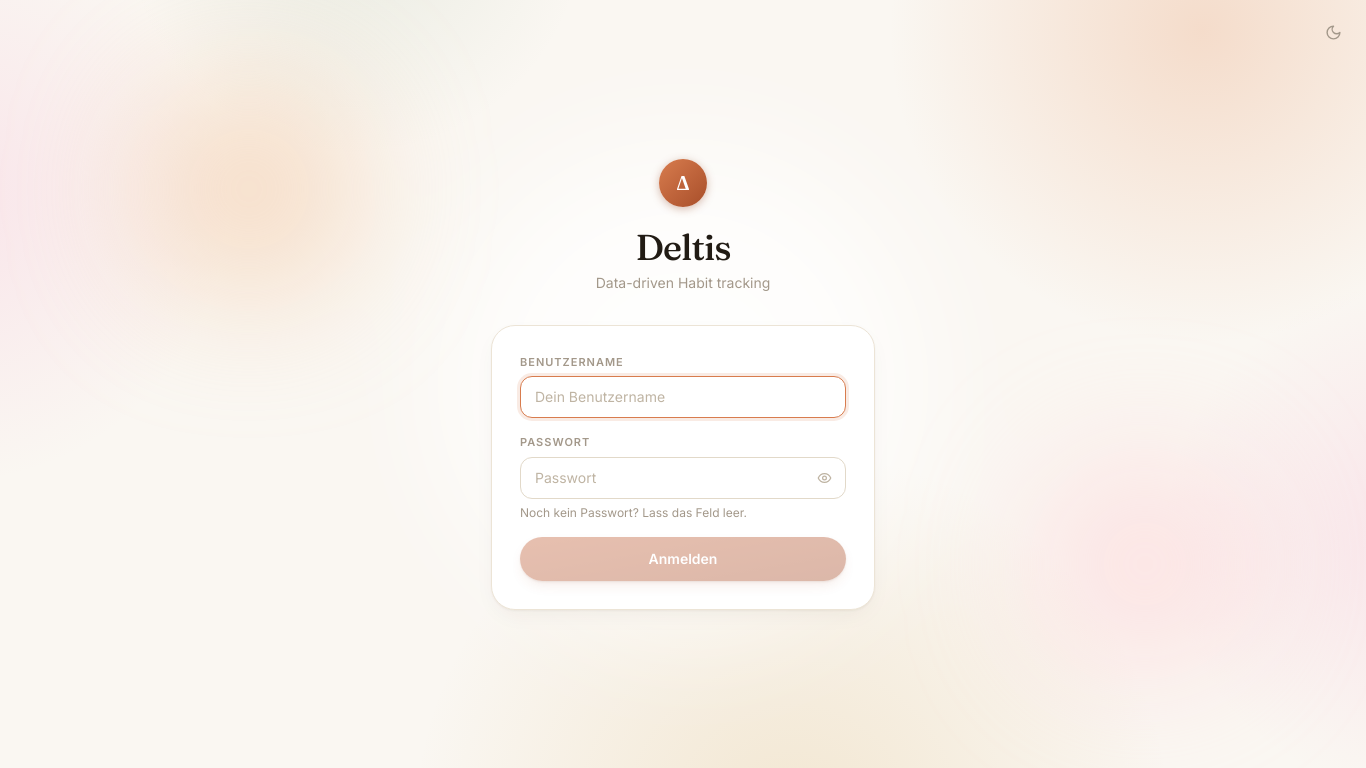
Test: Login page – error messages › shows "Falsches Passwort" error
In the field with placeholder "Dein Benutzername": [683, 397] box [520, 376, 846, 418], type "alice"
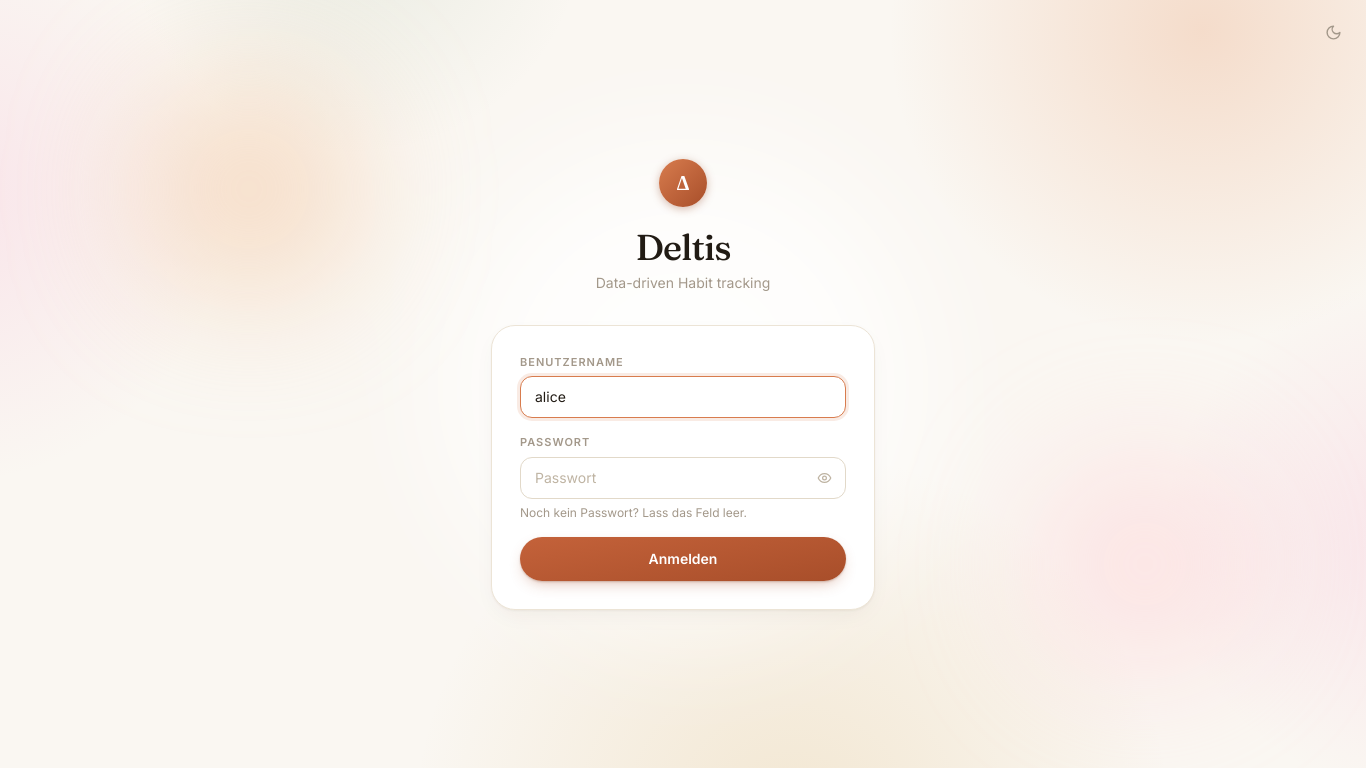
In the password field with placeholder "Passwort": [683, 478] box [520, 456, 846, 498], type "wrongpass"
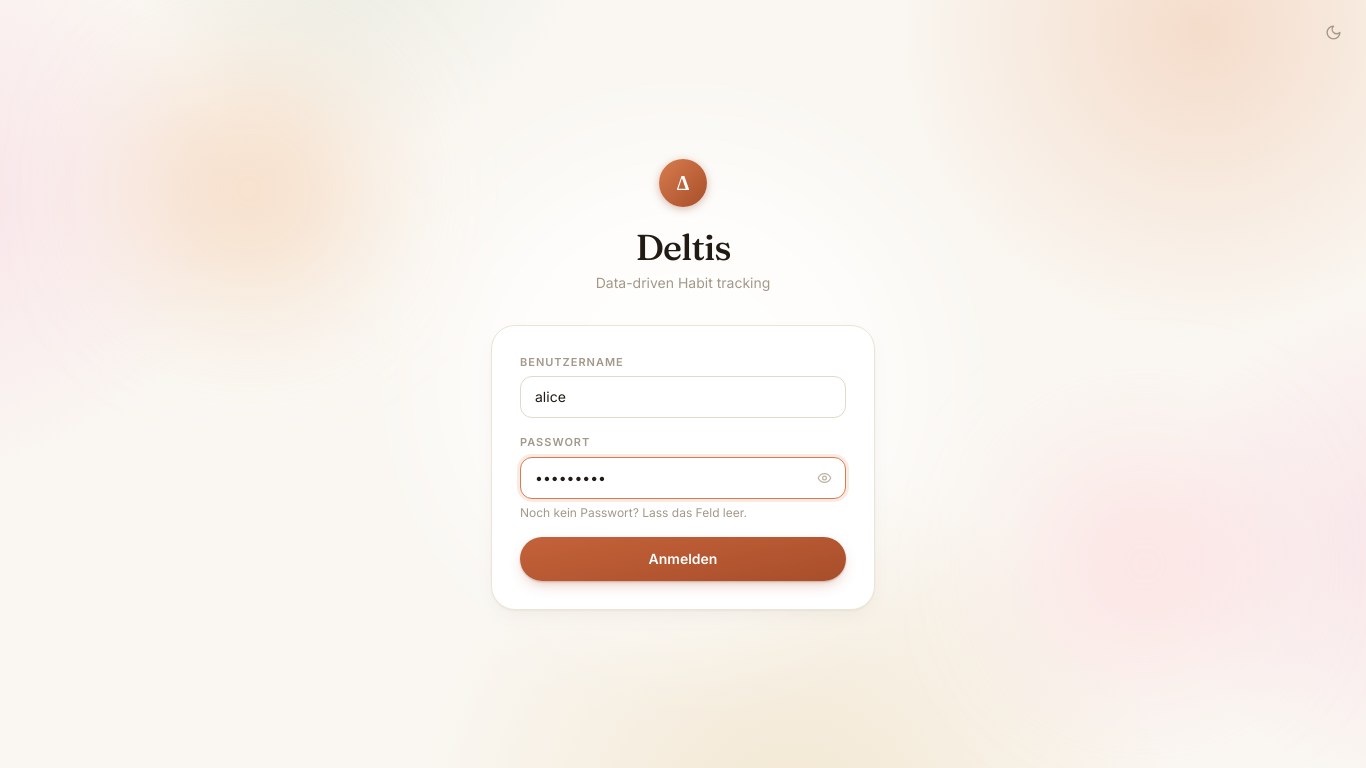
Click the button "Anmelden": [683, 558] box [520, 536, 846, 580]
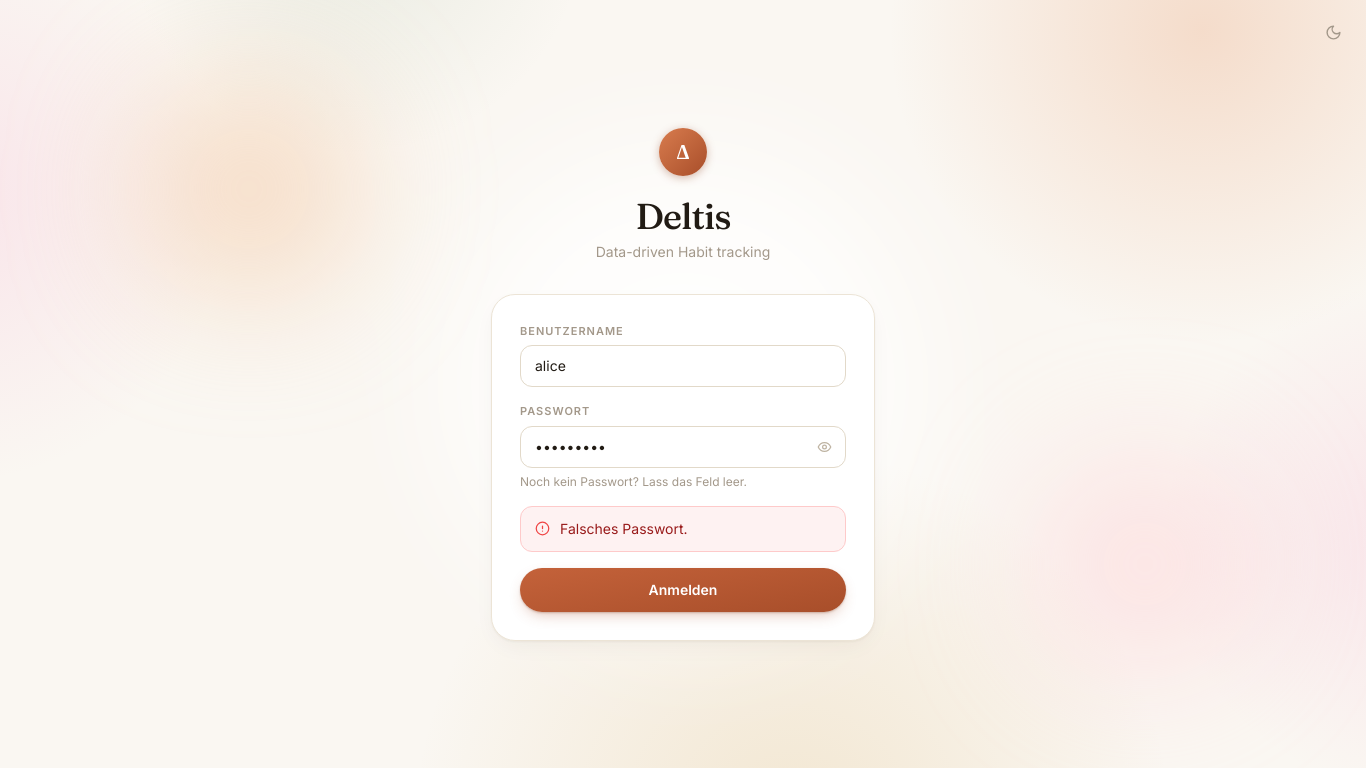
Now the text "Falsches Passwort." is shown, box [560, 518, 688, 538]
